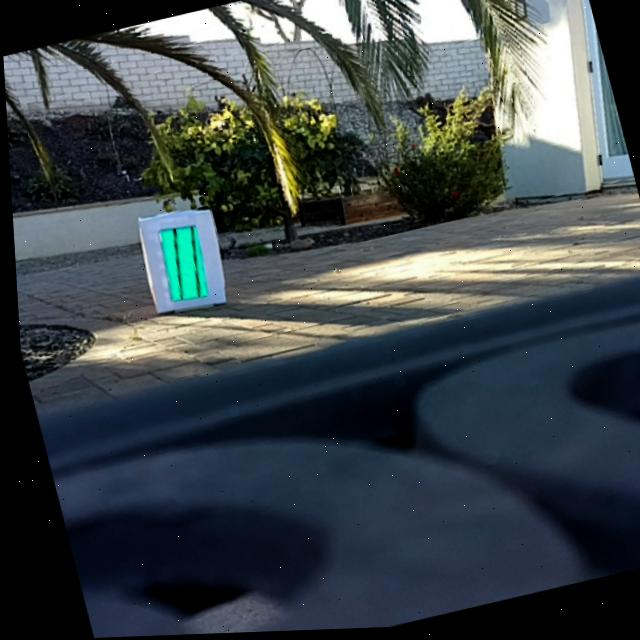led: (150, 219, 213, 307)
